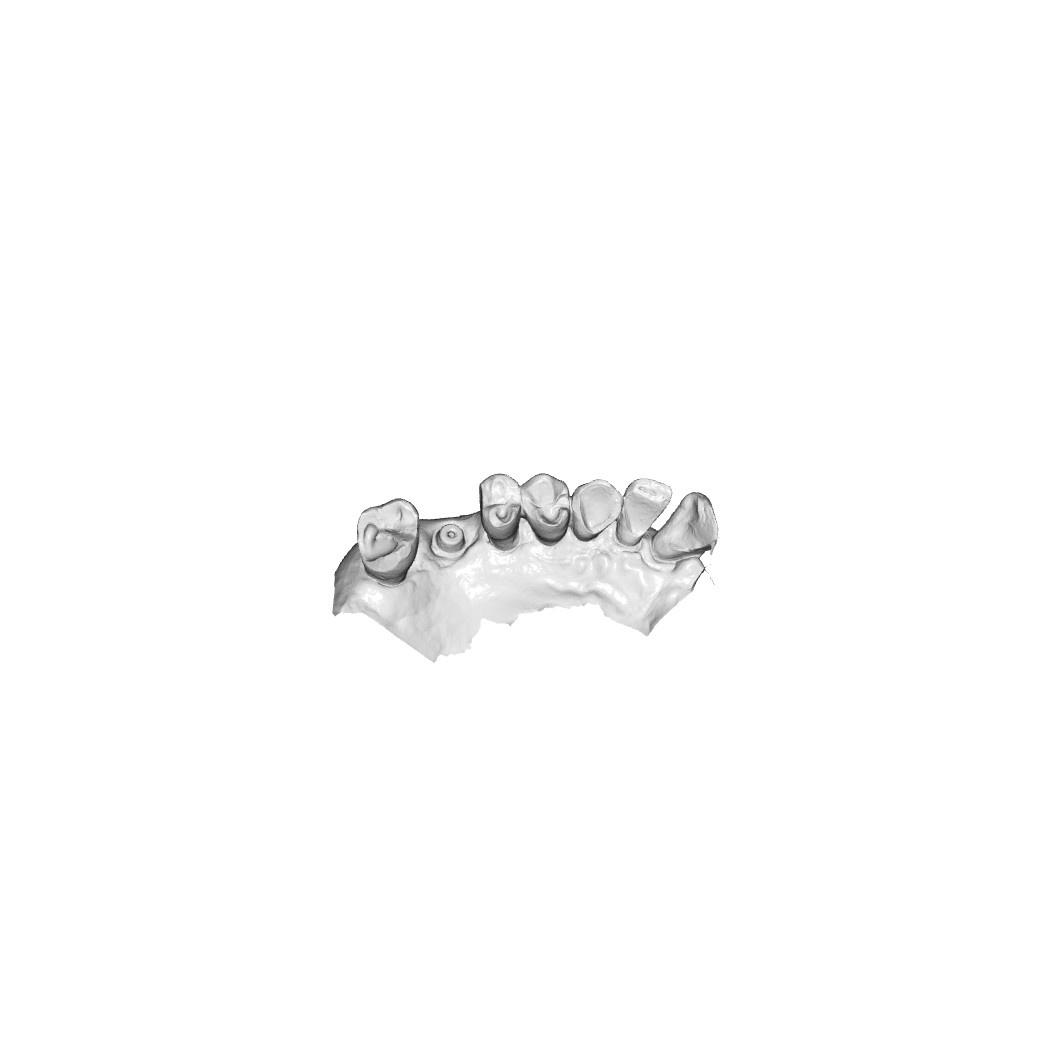canine: (575, 478, 624, 542)
implant: (433, 521, 470, 564)
incisor: (655, 490, 722, 559), (617, 477, 671, 542)
molar: (358, 500, 418, 577)
premolar: (519, 473, 572, 539), (476, 472, 522, 545)
